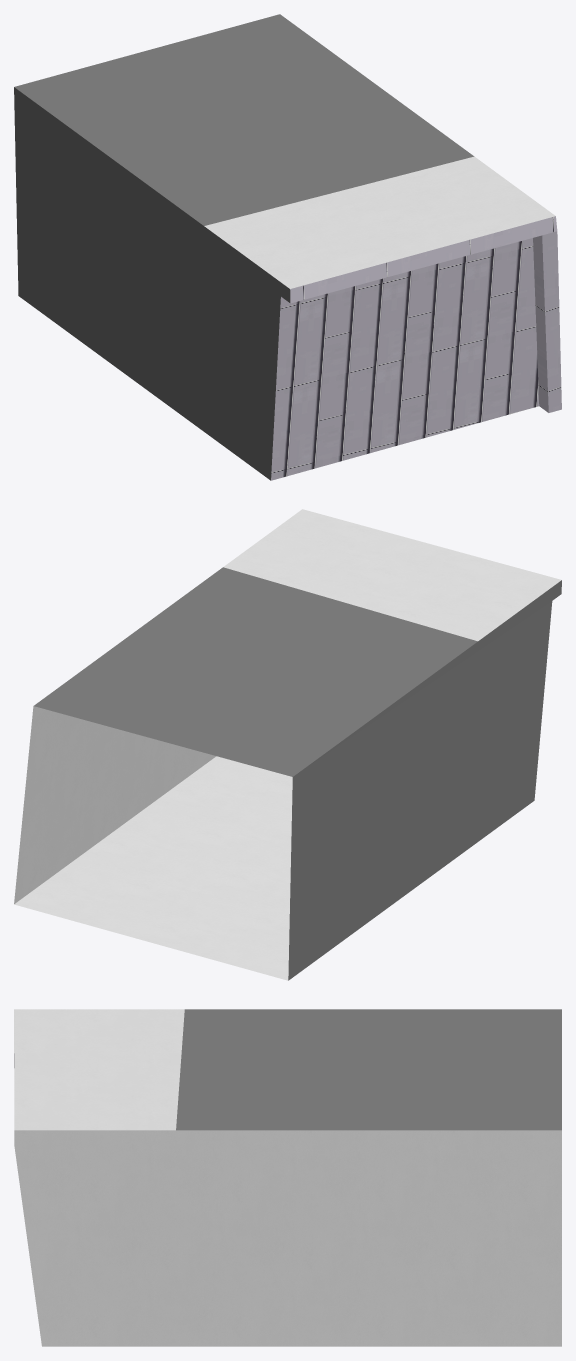
File: Viru 23_2.obj
3 renders of one model, top to bottom at view 1: azimuth 30°, elevation 25°; view 2: azimuth 150°, elevation 25°; view 3: azimuth 270°, elevation 25°, orthographic. The views are drawn at different scales.
Parts seen in each view (by area): view 1: Viru_23_2; view 2: Viru_23_2; view 3: Viru_23_2.
Part boxes in pixels (<box>): Viru_23_2: <box>14,14,561,480</box>; Viru_23_2: <box>14,509,561,980</box>; Viru_23_2: <box>14,1009,561,1346</box>.
Bounding box in the file's own units: 6.86 × 5 × 11.48.
3 materials, 2 textured.
